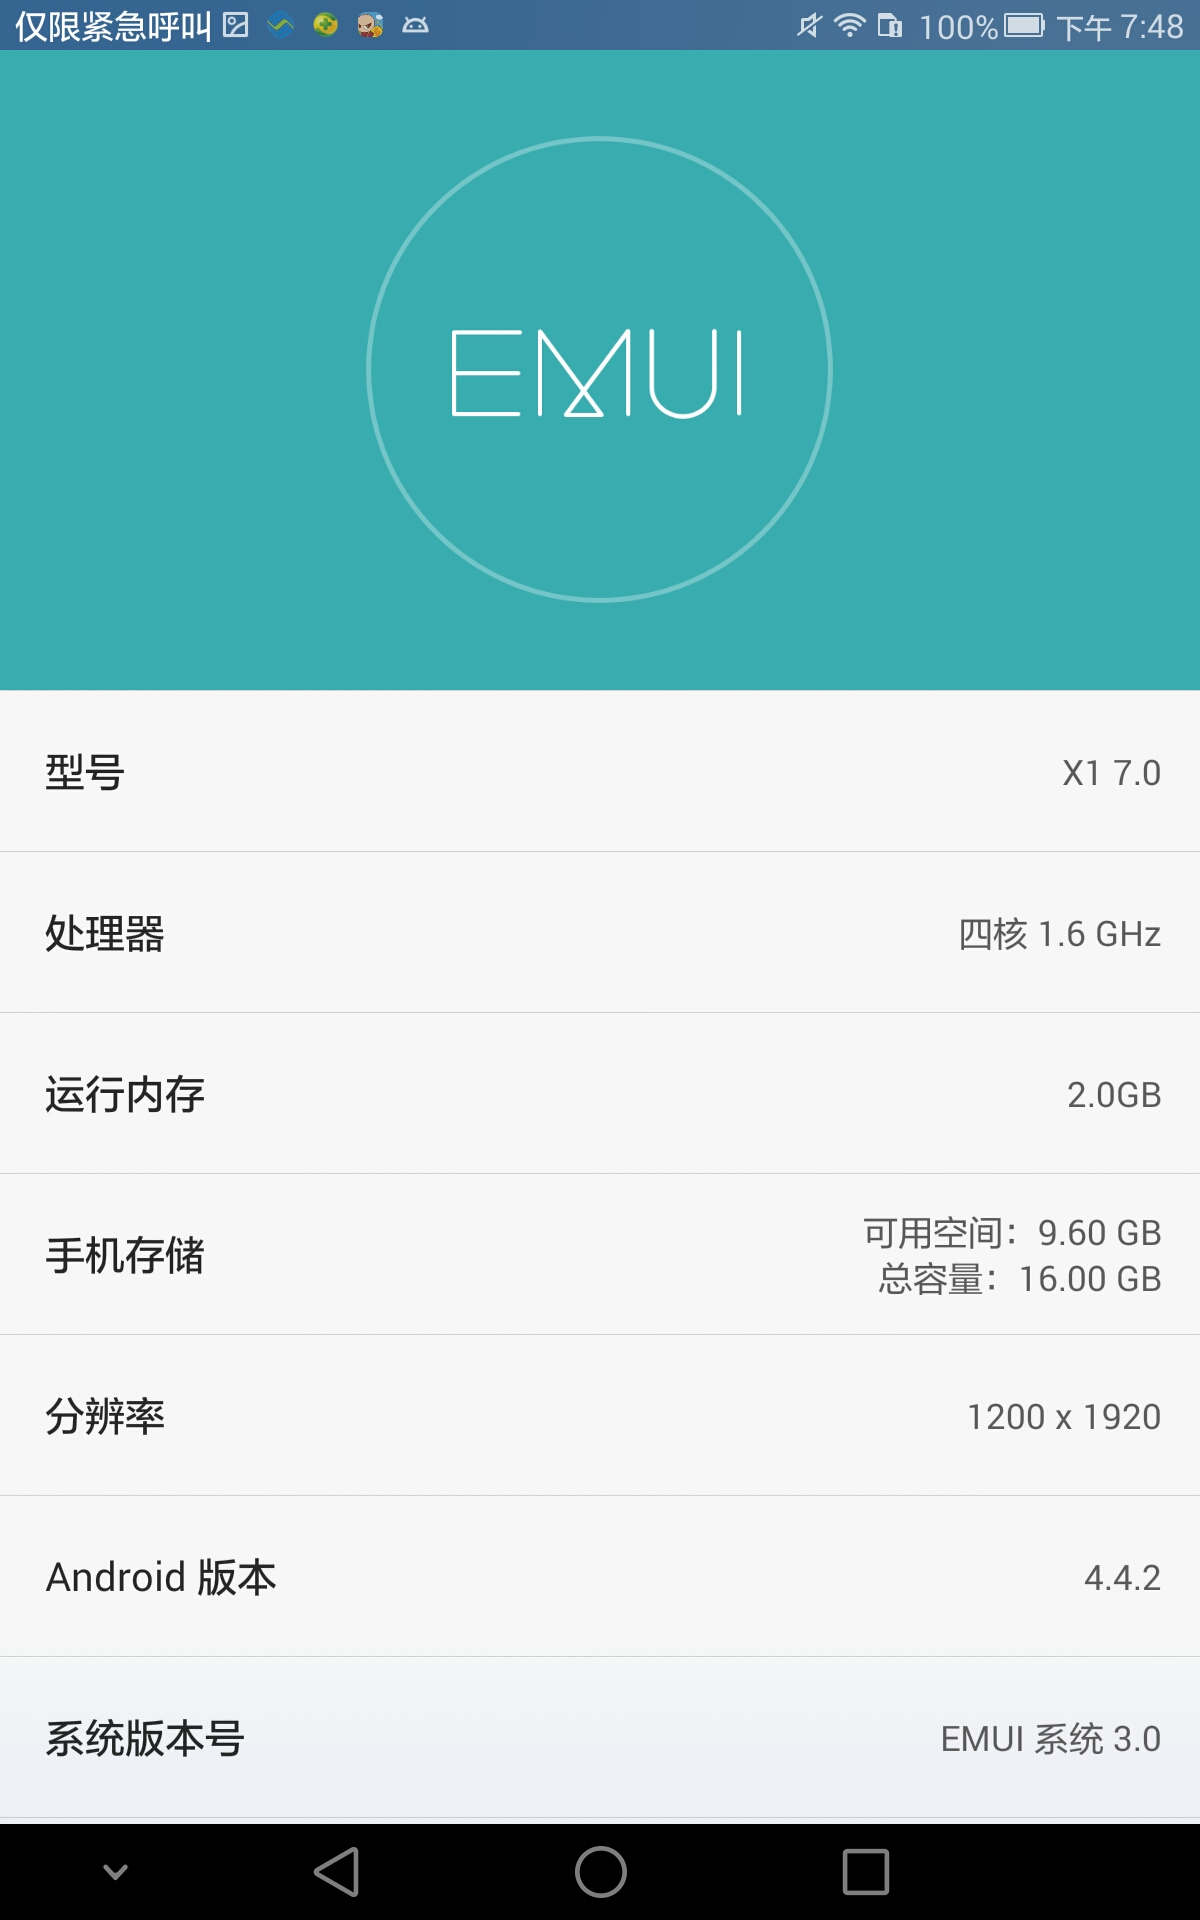textview: (19, 1491, 1200, 1660), (8, 697, 1190, 858), (10, 863, 1194, 1017), (8, 1024, 1200, 1176), (19, 1666, 1200, 1815), (14, 1183, 1200, 1331), (17, 1337, 1200, 1485)
